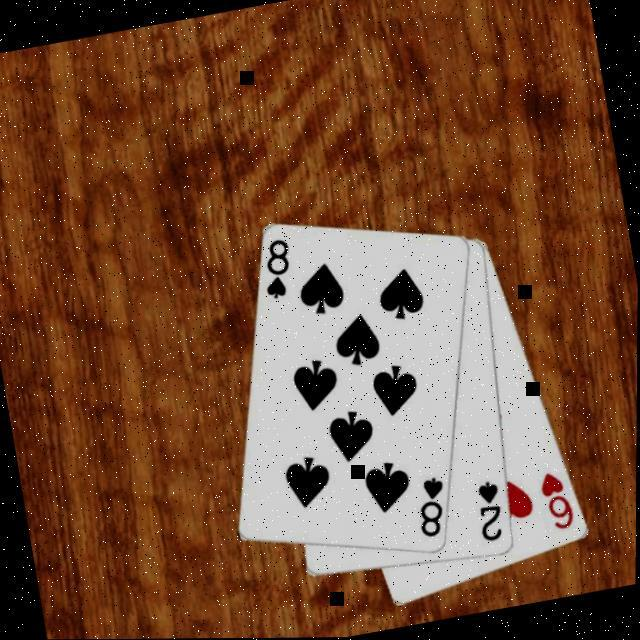2S: (470, 478, 509, 547)
6H: (534, 468, 579, 537)
8S: (409, 473, 455, 543), (254, 235, 299, 304)
